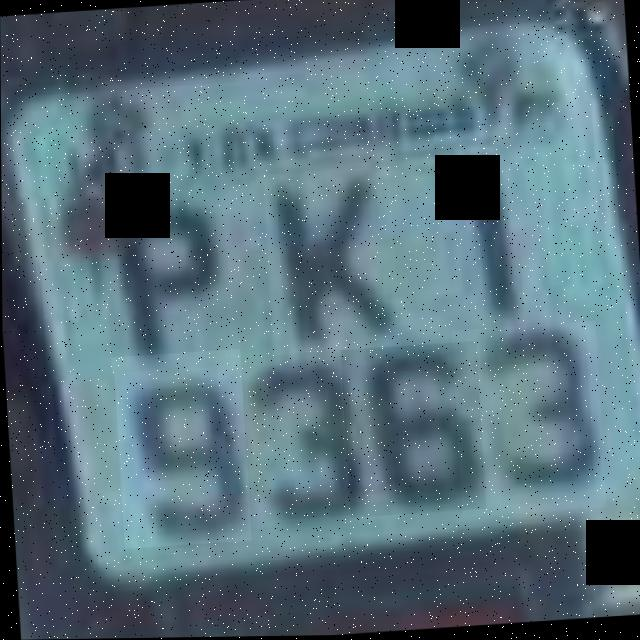3: (451, 323, 606, 519), (216, 346, 374, 531)
6: (340, 342, 485, 519)
9: (113, 349, 251, 550)
K: (263, 168, 400, 355)
P: (101, 173, 232, 374)
